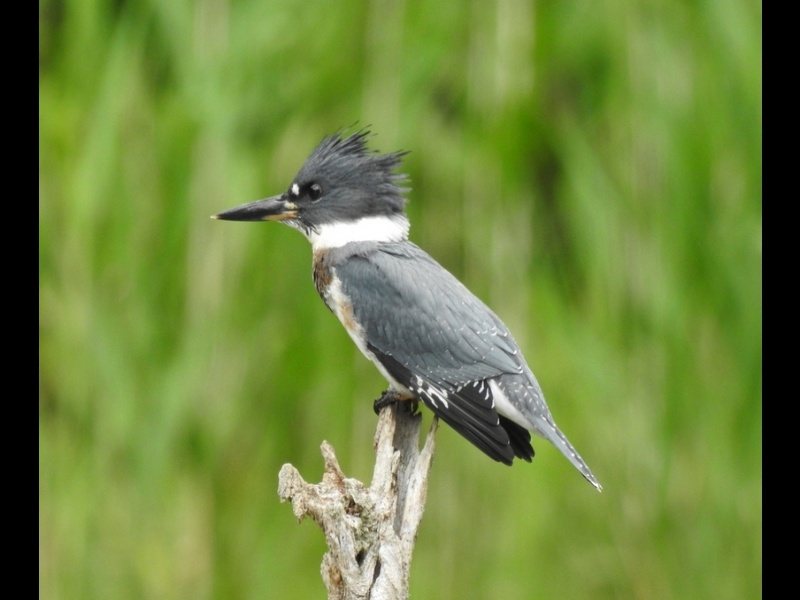kingfisher: (208, 119, 610, 498)
